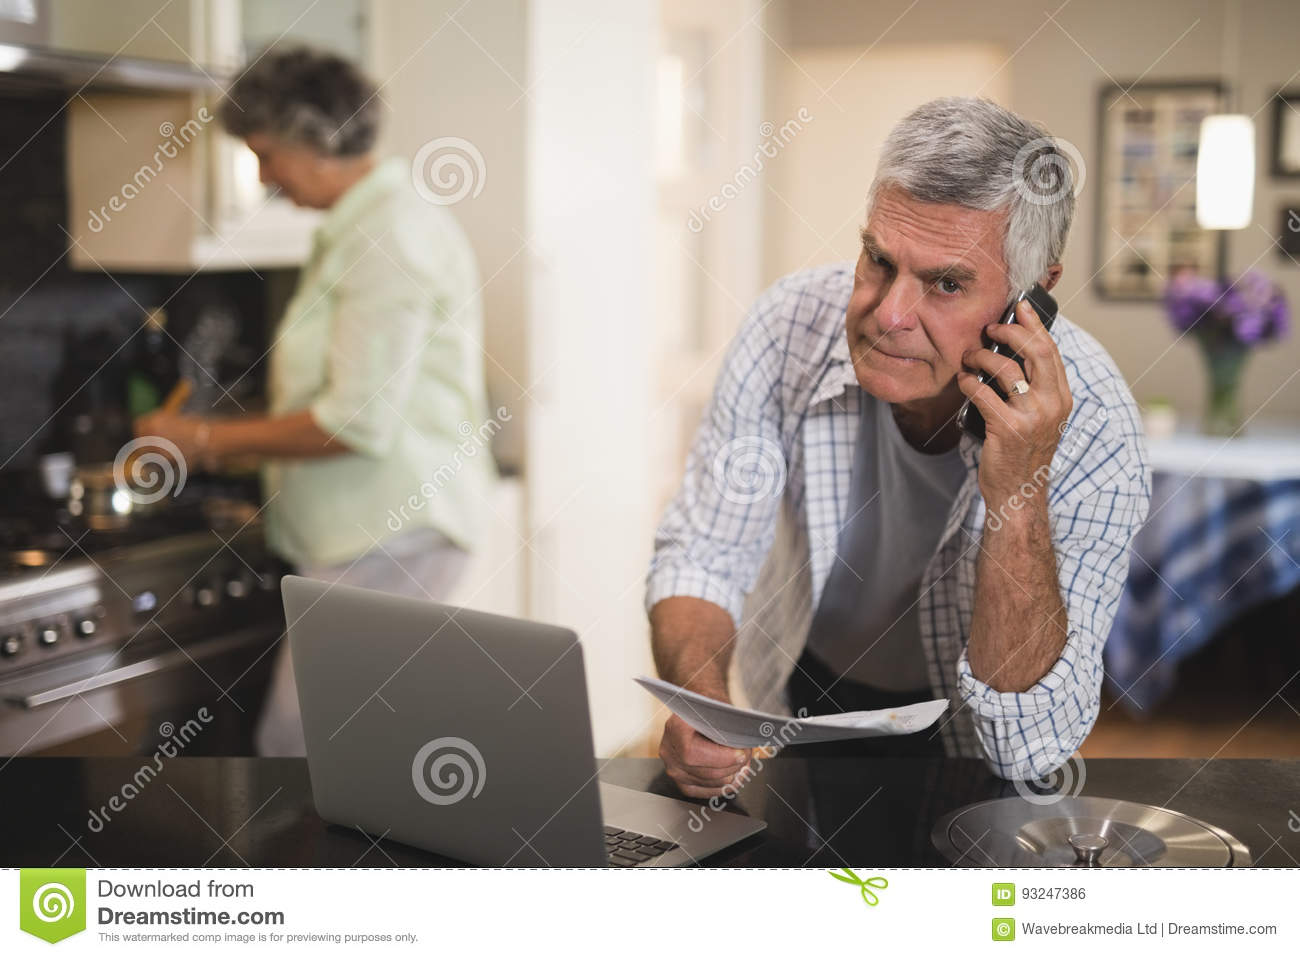phone: (954, 287, 1061, 438)
talk: (844, 225, 1074, 512)
